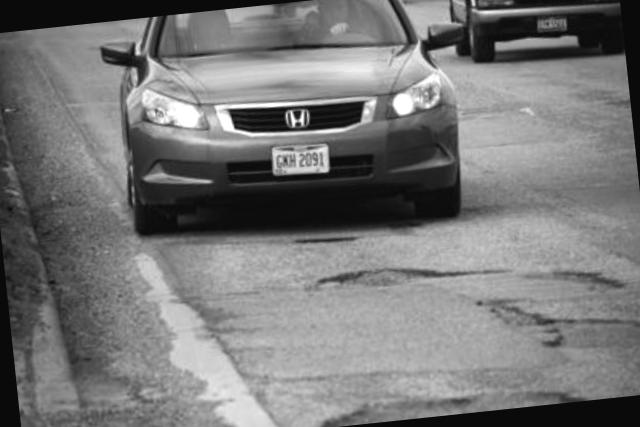Pothole: (282, 360, 591, 427), (468, 232, 634, 353), (294, 237, 467, 307)
